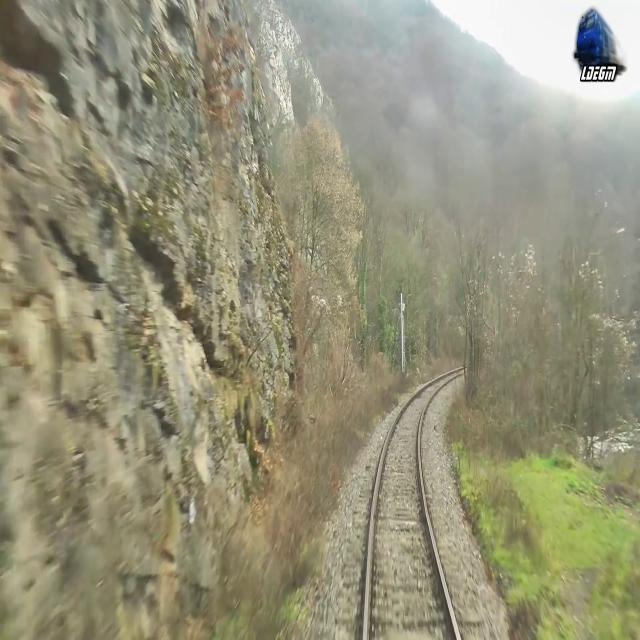rail-track: (368, 382, 455, 639)
